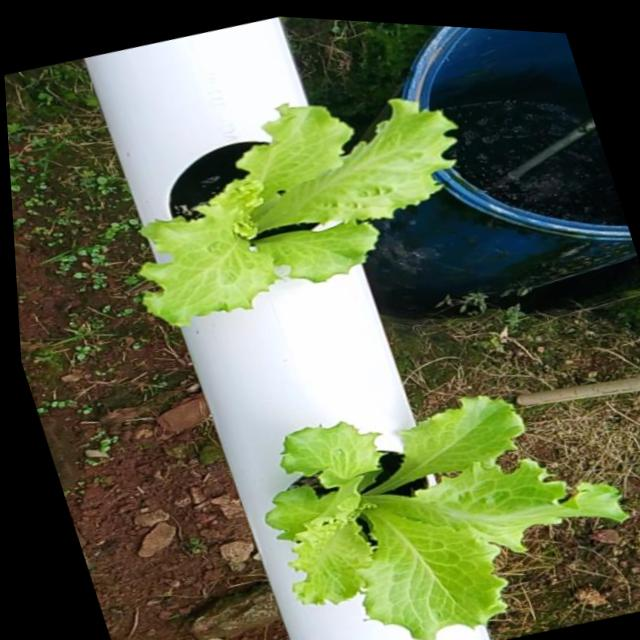Baby: (263, 395, 625, 640), (137, 97, 453, 324)
